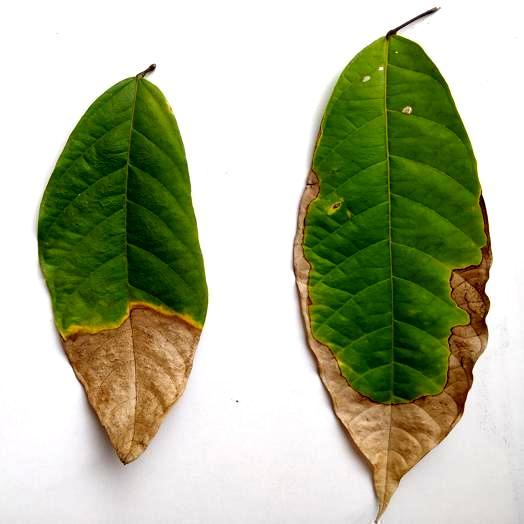Potassium: (294, 25, 490, 512), (39, 64, 207, 463)
